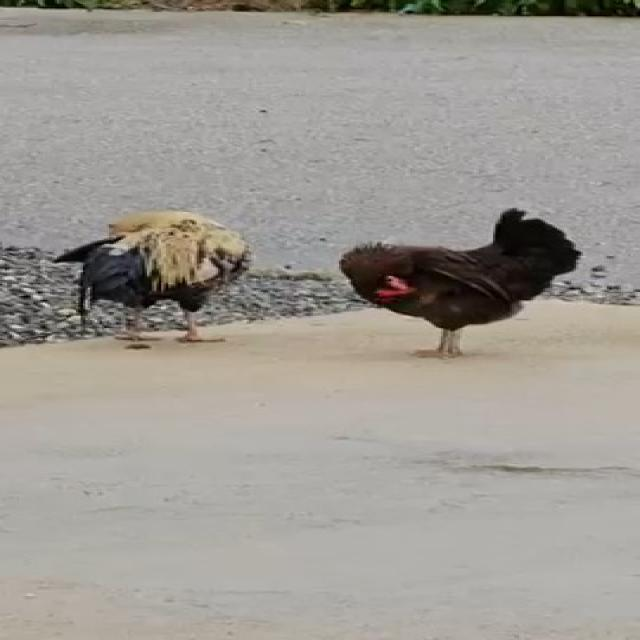self preening: (322, 213, 606, 364), (54, 202, 251, 362)
